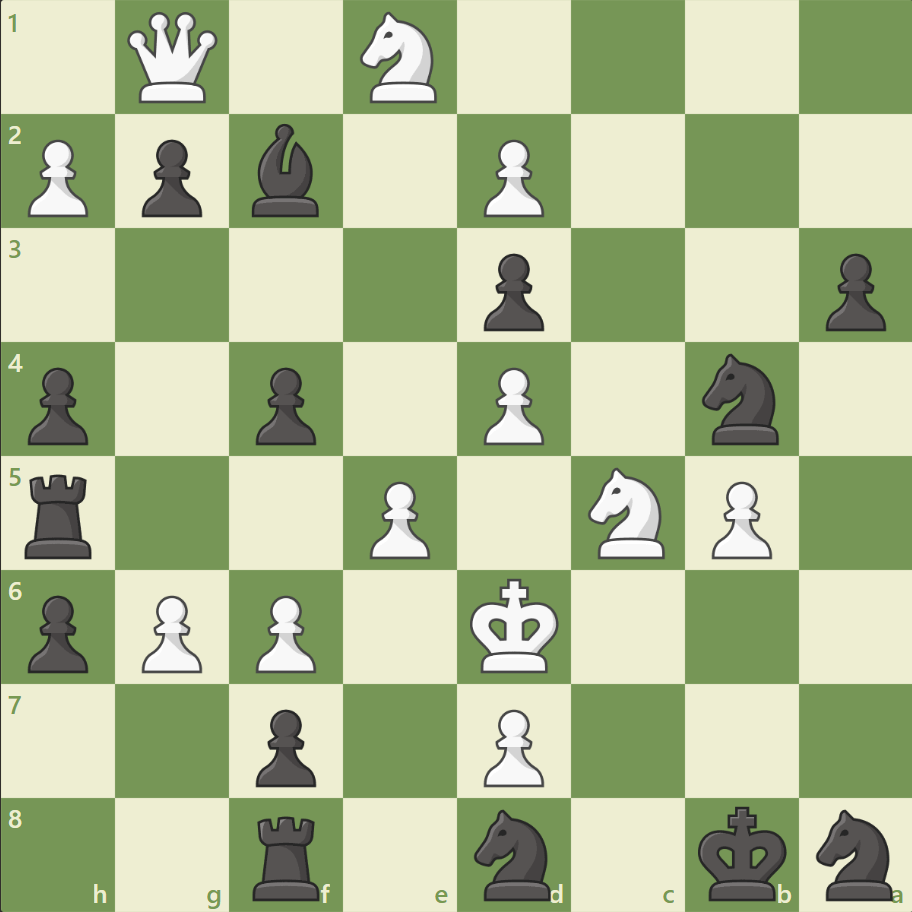K: (465, 571, 565, 679)
N: (351, 7, 449, 110), (579, 461, 676, 564)
P: (474, 700, 549, 791), (247, 586, 322, 677), (133, 586, 208, 677), (701, 473, 776, 564), (474, 359, 549, 450), (474, 132, 549, 223), (20, 132, 95, 223), (361, 473, 435, 564)
Q: (124, 9, 223, 108)
b: (244, 120, 328, 222)
k: (692, 798, 792, 906)
n: (806, 802, 903, 904), (465, 802, 562, 904), (692, 348, 789, 450)
p: (247, 700, 322, 791), (20, 586, 95, 677), (247, 359, 322, 450), (20, 359, 95, 450), (474, 246, 549, 337), (133, 132, 208, 223), (815, 246, 889, 337)
r: (246, 806, 329, 904), (19, 466, 102, 563)
